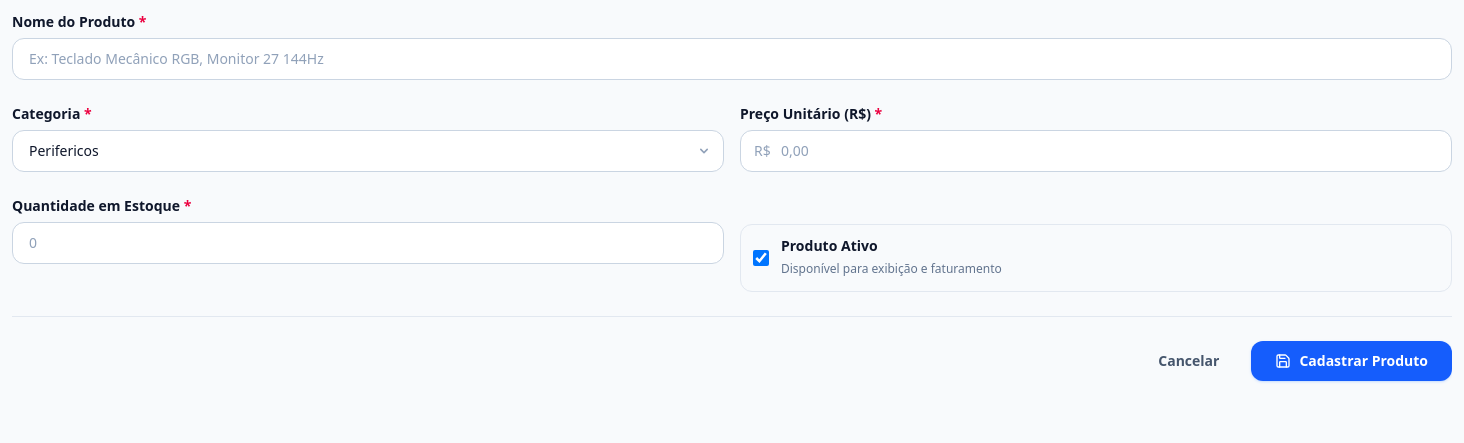
ProductForm component › deve validar que o nome possui no mínimo 3 caracteres
Type "AB" into the field labelled "Nome do Produto *" at (732, 59), box [12,38,1452,80]
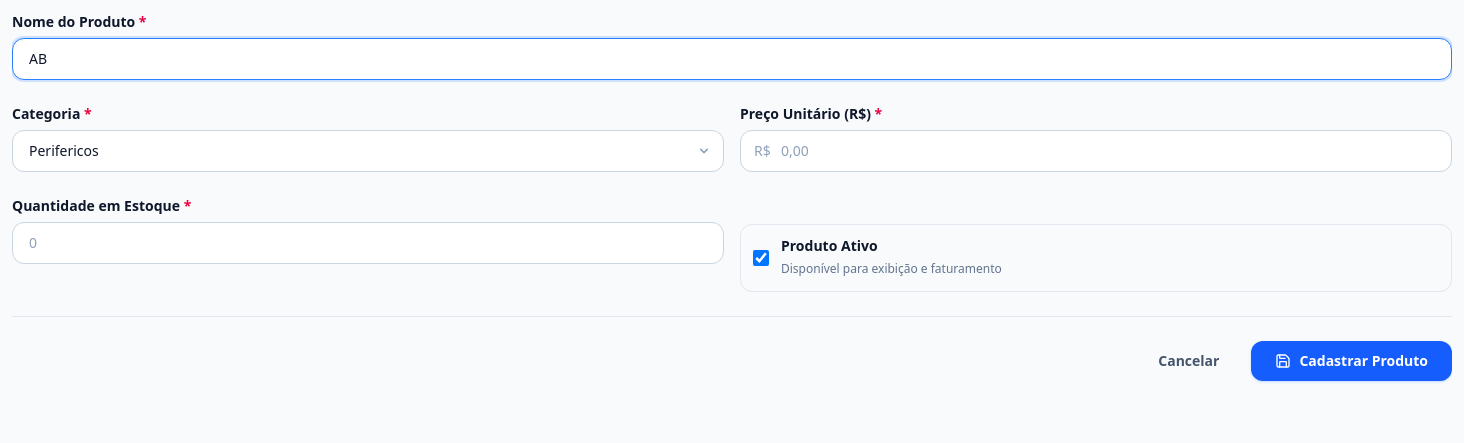
Click the button "Cadastrar Produto" at (1352, 360), box [1251,340,1452,380]
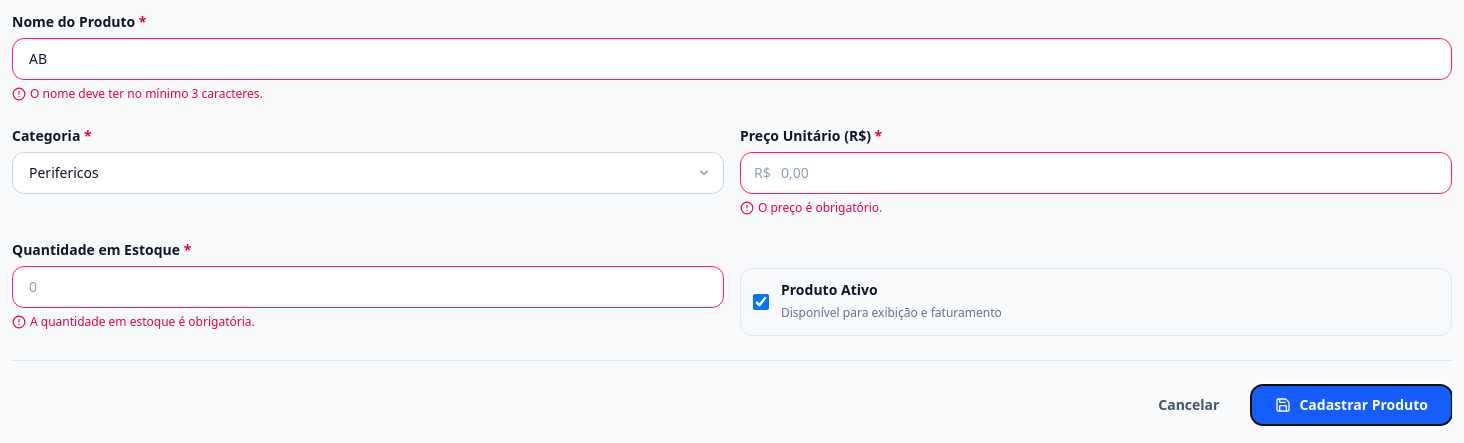
Expected: the text "O nome deve ter no mínimo 3 caracteres." is shown, [30,86,263,102]
